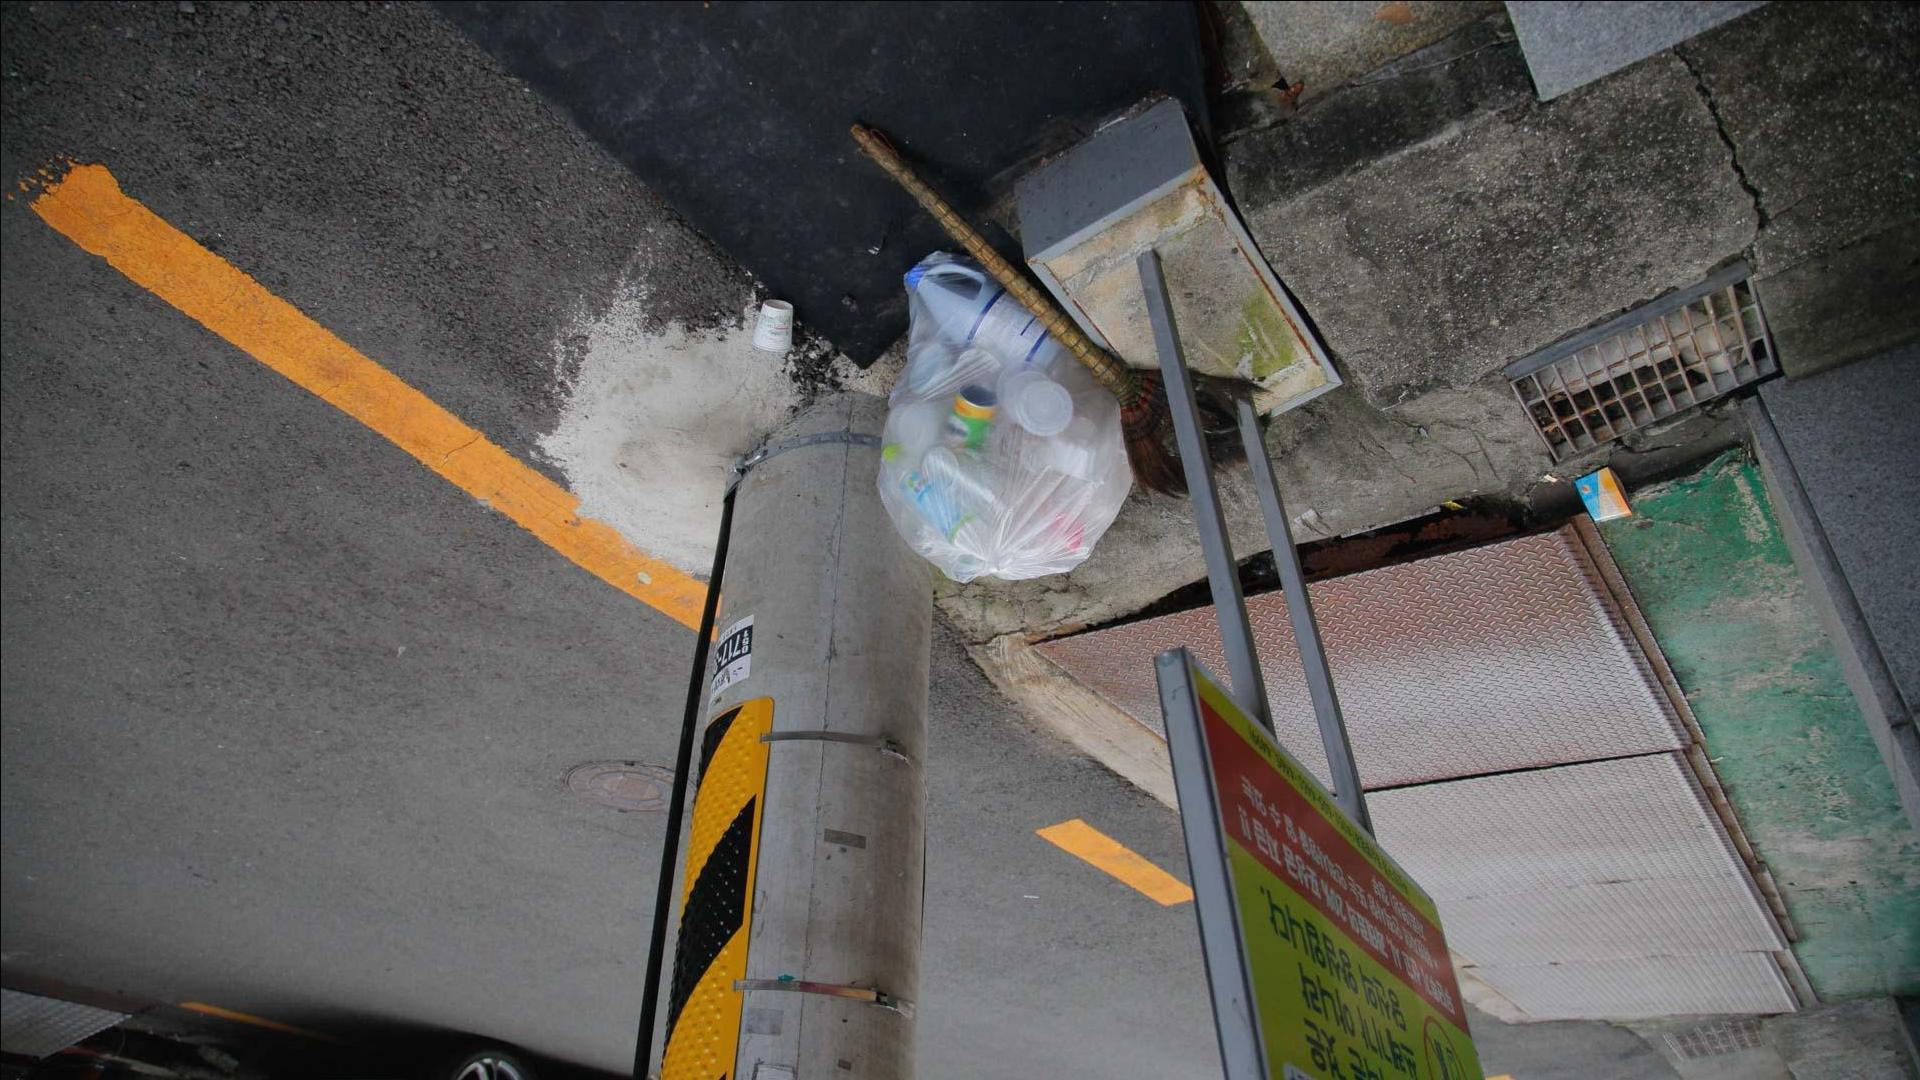white_bag: (858, 244, 1143, 589)
